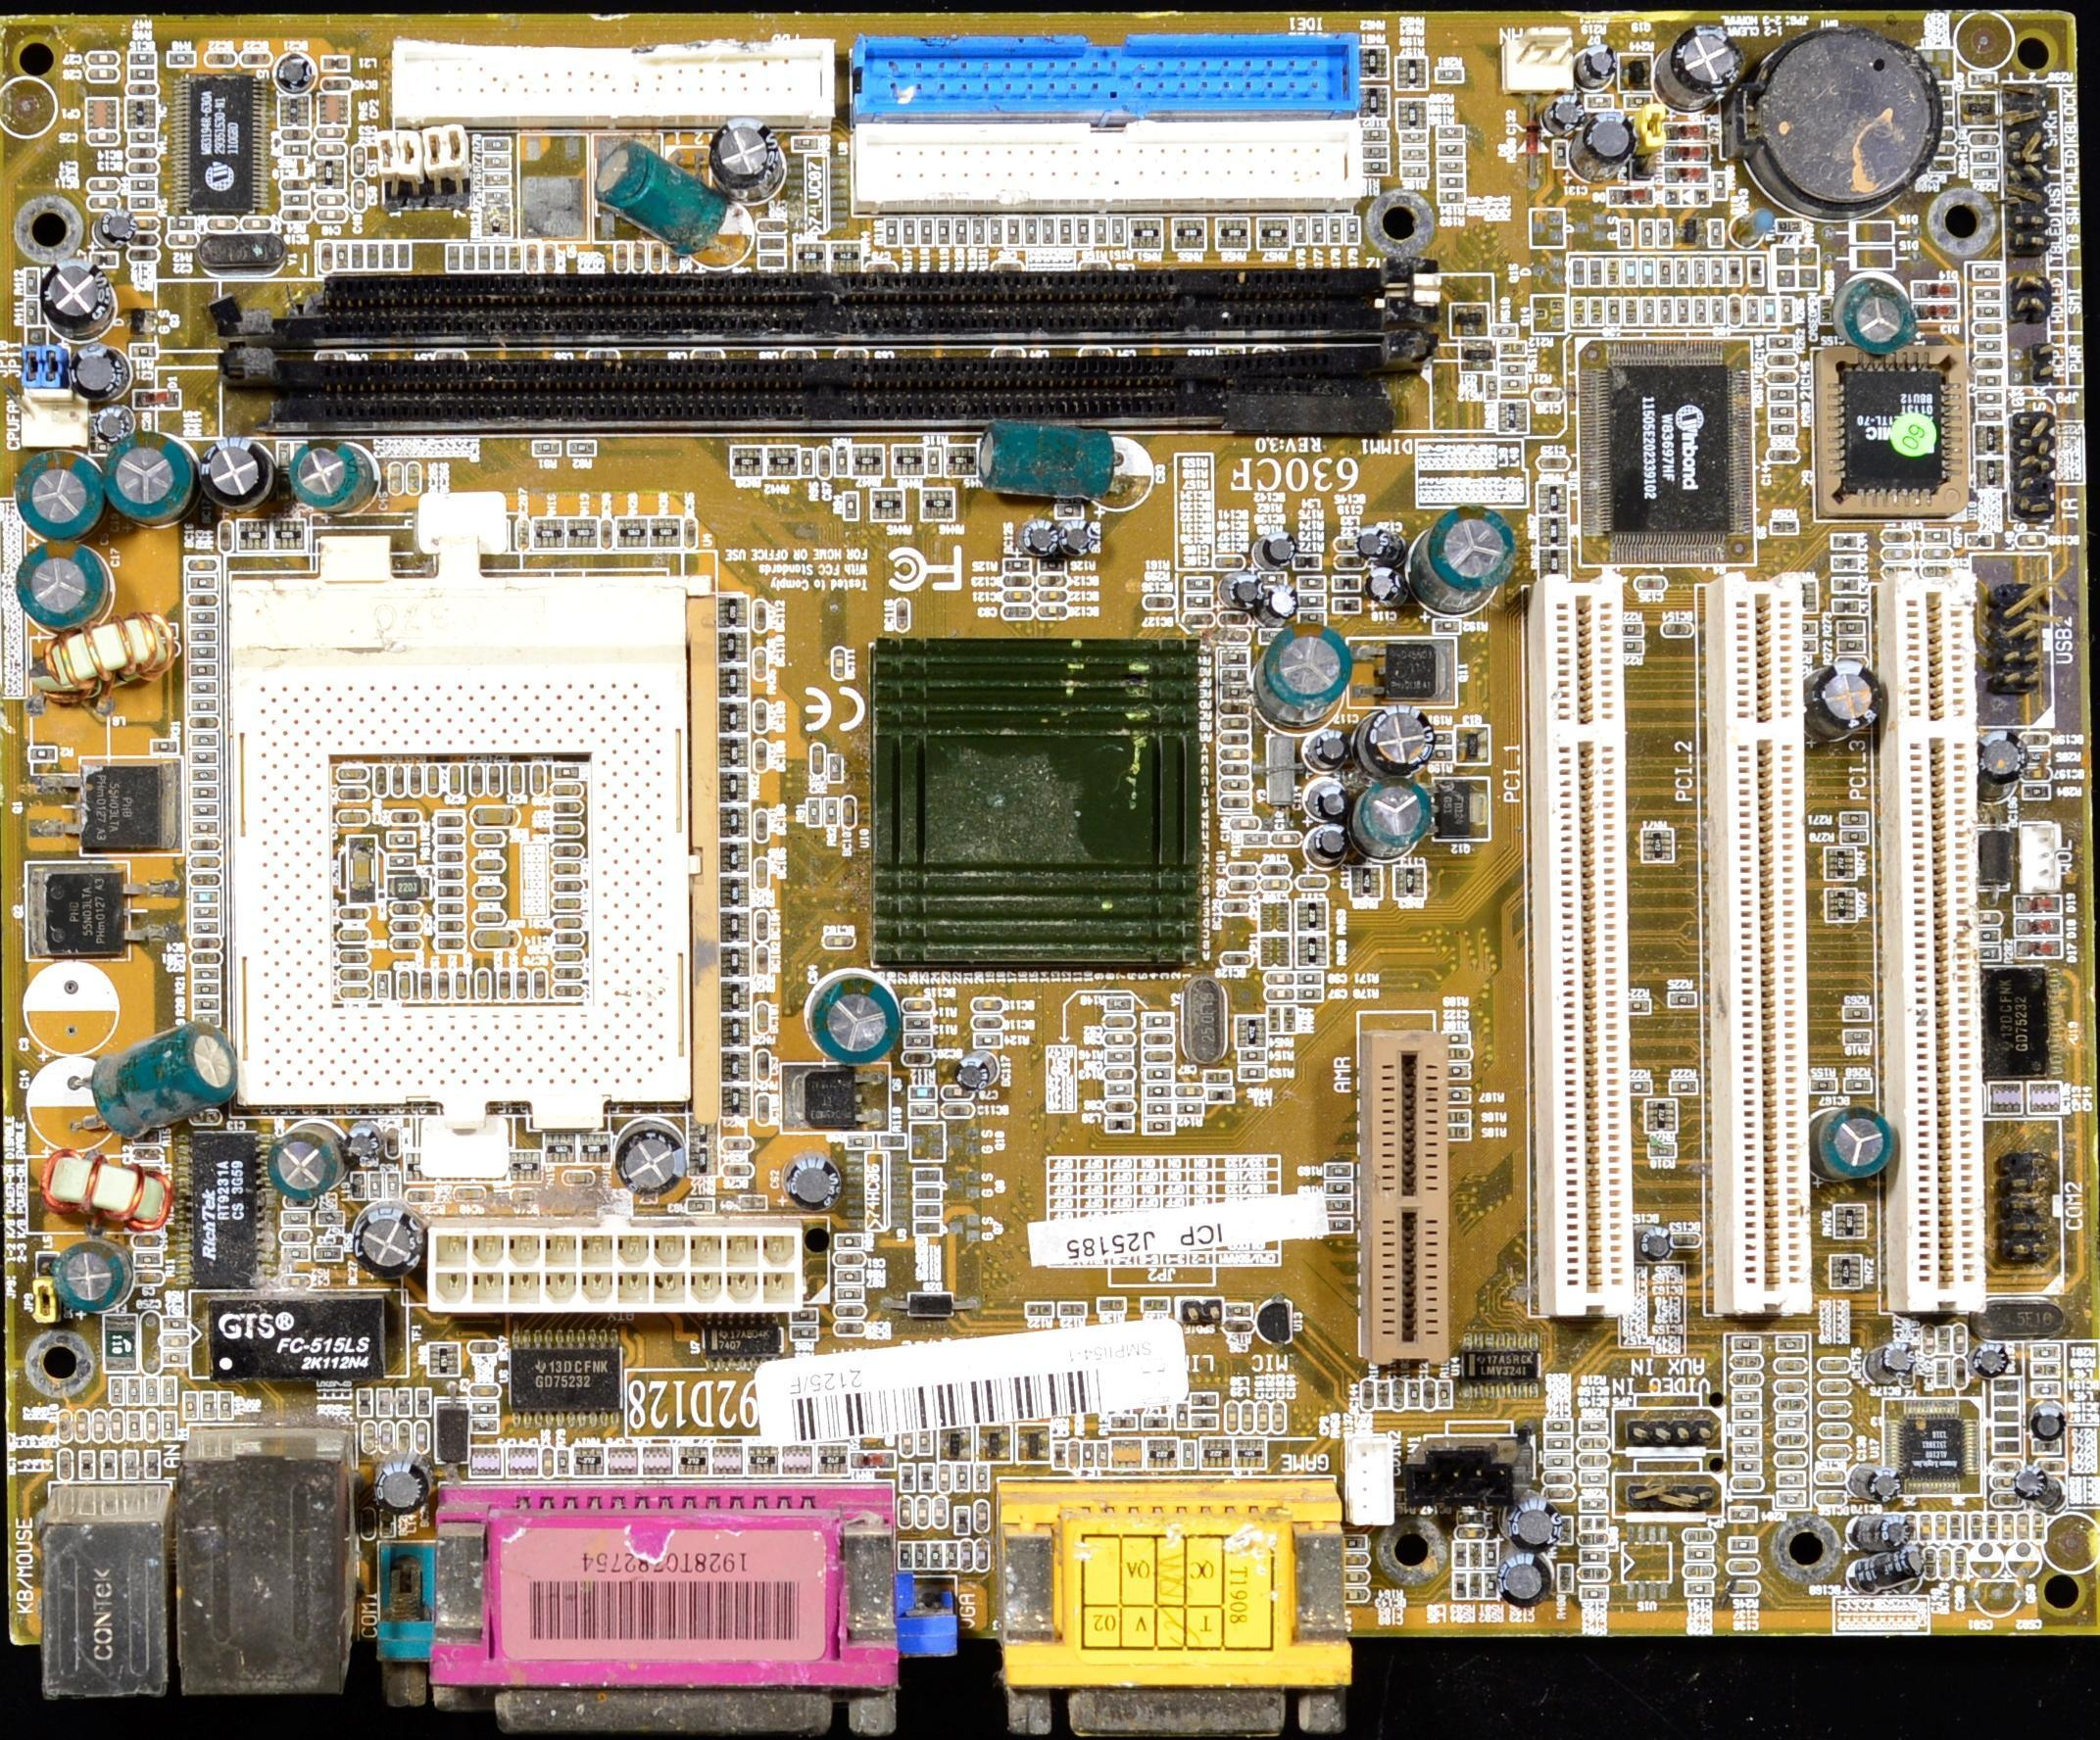Capacitor: (57, 1413, 72, 1435), (282, 1277, 312, 1286), (1538, 455, 1563, 467), (145, 1409, 156, 1437), (817, 450, 829, 478), (195, 954, 223, 964), (75, 1414, 87, 1437), (948, 1089, 978, 1099), (471, 1385, 498, 1397), (835, 1256, 864, 1265), (91, 66, 115, 77), (545, 1446, 553, 1473), (1954, 1549, 1963, 1575), (1725, 1585, 1753, 1593), (395, 812, 421, 821), (1533, 389, 1556, 399), (1109, 1099, 1130, 1108), (1146, 1035, 1170, 1042), (94, 1413, 103, 1437), (249, 220, 273, 228), (938, 1466, 949, 1486), (1988, 1519, 1998, 1538), (1775, 451, 1793, 460), (918, 1501, 927, 1523), (963, 1545, 972, 1567), (1002, 607, 1026, 616), (1227, 720, 1248, 729), (1263, 880, 1286, 889), (1971, 134, 1991, 143), (1427, 1381, 1434, 1407), (1271, 1405, 1280, 1426), (1258, 1404, 1264, 1430), (1821, 1446, 1842, 1455), (902, 1497, 909, 1524), (355, 151, 363, 172), (815, 749, 822, 774), (374, 768, 383, 791), (191, 874, 213, 883), (761, 1053, 769, 1078), (89, 54, 113, 62), (342, 814, 366, 822), (287, 1232, 308, 1240), (138, 1237, 158, 1247), (136, 1271, 156, 1281), (1687, 1533, 1705, 1541), (354, 184, 364, 204), (1342, 560, 1360, 568), (195, 720, 215, 729), (1107, 1019, 1130, 1025), (1242, 1406, 1248, 1427), (113, 1416, 120, 1438), (938, 1501, 945, 1524), (189, 598, 212, 604), (903, 1432, 912, 1451), (174, 232, 192, 241), (1643, 579, 1660, 588), (1980, 912, 1997, 921), (1109, 1070, 1130, 1078), (978, 1503, 986, 1524), (89, 199, 117, 205), (1395, 1381, 1401, 1407), (1346, 1591, 1362, 1600), (2031, 1516, 2038, 1534), (1971, 1517, 1978, 1536), (1461, 1525, 1481, 1533), (1579, 1571, 1597, 1577), (1888, 551, 1909, 558), (131, 86, 150, 93), (559, 954, 578, 960), (1182, 1086, 1197, 1095), (93, 132, 111, 140), (1549, 1489, 1566, 1495), (1952, 1516, 1958, 1533), (1690, 1567, 1708, 1574), (1347, 1574, 1365, 1581), (215, 218, 231, 225), (1929, 552, 1946, 557), (1264, 865, 1279, 873), (1222, 1323, 1245, 1329), (1273, 977, 1290, 984), (167, 1339, 182, 1345), (96, 182, 117, 189), (1888, 531, 1905, 539), (1240, 820, 1255, 827), (1231, 885, 1246, 891), (1229, 1407, 1235, 1426), (1548, 1474, 1568, 1478), (1585, 1536, 1602, 1541), (319, 213, 339, 217), (193, 842, 213, 847), (1280, 836, 1294, 843), (1306, 878, 1321, 884), (554, 935, 581, 938), (1736, 1563, 1747, 1571), (1227, 751, 1244, 757), (1232, 868, 1248, 874), (1929, 1552, 1933, 1576), (1151, 1052, 1167, 1058), (1891, 566, 1907, 572), (976, 1548, 982, 1563), (1941, 145, 1950, 151), (320, 197, 339, 201), (1111, 1037, 1126, 1041), (1927, 570, 1942, 574), (1274, 991, 1285, 995), (325, 128, 339, 132), (1452, 1052, 1464, 1056)
Connector: (1538, 584, 1621, 1297), (1741, 584, 1804, 1301), (1918, 590, 1957, 1280), (1379, 1039, 1435, 1338)
IC: (885, 650, 1182, 950), (1592, 354, 1738, 554), (195, 1136, 249, 1281), (1985, 968, 2050, 1073), (198, 84, 251, 204), (510, 1353, 601, 1408), (1902, 1418, 1960, 1477), (699, 1321, 778, 1351), (1471, 1350, 1529, 1376), (1259, 1301, 1286, 1340)
Resistor: (1637, 218, 1651, 241), (534, 441, 557, 456), (1624, 94, 1647, 107), (1780, 1337, 1802, 1349), (164, 1414, 176, 1436), (24, 272, 38, 291), (1148, 1017, 1169, 1029), (1783, 1492, 1803, 1504), (1712, 174, 1725, 196), (1839, 620, 1861, 633), (830, 752, 841, 777), (809, 800, 819, 824), (1240, 834, 1265, 845), (282, 1212, 306, 1222), (285, 1250, 308, 1261), (1659, 262, 1670, 284), (153, 741, 176, 751), (190, 753, 214, 764), (1102, 1299, 1122, 1311), (737, 1198, 762, 1206), (26, 750, 52, 758), (387, 1176, 397, 1196), (317, 1212, 338, 1222), (1738, 1409, 1760, 1420), (958, 1468, 968, 1489), (979, 1470, 990, 1490), (1324, 1164, 1347, 1173), (136, 1254, 160, 1263), (918, 1432, 929, 1451), (1110, 221, 1121, 240), (958, 222, 967, 242), (1622, 223, 1633, 243), (1765, 298, 1776, 317), (1439, 125, 1461, 134), (1940, 1359, 1948, 1380), (184, 1394, 194, 1418), (796, 137, 818, 147), (1715, 219, 1723, 243), (1780, 301, 1788, 324), (1404, 166, 1420, 177), (193, 771, 210, 783), (1588, 95, 1607, 106), (126, 1381, 136, 1398), (1176, 1406, 1187, 1424), (1085, 1443, 1094, 1464), (282, 144, 309, 151), (1559, 1568, 1568, 1589), (1443, 163, 1465, 170), (1046, 222, 1054, 241), (764, 239, 782, 250), (1715, 304, 1725, 321), (1007, 559, 1026, 570), (132, 53, 150, 63), (189, 610, 209, 618), (192, 682, 213, 691), (193, 736, 211, 746), (195, 823, 216, 831), (1843, 1006, 1868, 1013), (1548, 1458, 1573, 1464), (1503, 379, 1528, 385), (1977, 413, 2001, 420), (190, 578, 215, 586), (1993, 1379, 2013, 1387), (1738, 1426, 1758, 1434), (559, 1451, 566, 1470), (941, 223, 949, 242), (977, 222, 985, 243), (991, 222, 1000, 242), (903, 222, 912, 242), (1662, 301, 1671, 321), (826, 800, 835, 820), (1111, 999, 1126, 1009), (946, 1546, 955, 1563), (1296, 223, 1306, 238), (1621, 262, 1632, 277), (1696, 305, 1707, 321), (370, 1175, 376, 1198), (1382, 1380, 1388, 1403), (131, 1413, 137, 1434), (565, 443, 587, 451), (930, 450, 937, 473), (847, 494, 854, 515), (190, 632, 213, 638), (376, 976, 385, 993), (1812, 1082, 1831, 1090), (841, 1234, 858, 1242), (146, 1382, 156, 1400), (1405, 147, 1424, 155), (1366, 147, 1384, 155), (1681, 263, 1689, 281), (1644, 301, 1654, 319), (1489, 377, 1497, 395), (1773, 409, 1790, 417), (194, 790, 212, 798), (390, 834, 408, 843), (393, 856, 411, 865), (1670, 992, 1689, 998), (1846, 1081, 1867, 1088), (837, 1290, 858, 1297), (1059, 1304, 1079, 1312), (203, 1394, 209, 1416), (1186, 1443, 1193, 1464), (899, 1546, 909, 1561), (1974, 155, 1995, 163), (133, 199, 154, 206), (1661, 219, 1667, 240), (1029, 221, 1036, 243), (1588, 262, 1595, 282), (1768, 426, 1790, 433), (796, 1310, 810, 1318), (127, 134, 154, 140), (1975, 169, 1990, 178), (366, 247, 374, 264), (1041, 561, 1057, 570), (197, 805, 214, 814), (198, 892, 213, 900), (195, 907, 211, 916), (198, 971, 213, 980), (1207, 1072, 1226, 1079), (475, 1405, 494, 1413), (472, 1421, 492, 1427), (1737, 1447, 1756, 1455), (1346, 1537, 1366, 1545), (1473, 1576, 1479, 1595), (284, 195, 303, 202), (1315, 220, 1322, 238), (1010, 221, 1016, 241), (339, 248, 346, 267), (450, 248, 457, 267), (1643, 262, 1649, 280), (1576, 264, 1583, 283), (1749, 301, 1756, 321), (1501, 345, 1521, 352), (1261, 574, 1281, 581), (1185, 597, 1204, 603), (1840, 643, 1860, 650), (2034, 1349, 2059, 1354), (1966, 538, 1989, 544), (198, 1015, 212, 1024), (976, 1037, 995, 1044), (1109, 1086, 1127, 1092), (1454, 1127, 1468, 1135), (849, 1138, 866, 1146), (690, 1200, 705, 1209), (1736, 1341, 1755, 1348), (1406, 133, 1423, 139), (1441, 1385, 1448, 1404), (1738, 1394, 1756, 1401), (1110, 1419, 1129, 1426), (1546, 1420, 1565, 1426), (1999, 1427, 2016, 1434), (1781, 1474, 1798, 1482), (1734, 1538, 1751, 1545), (1693, 1585, 1708, 1593), (1081, 225, 1088, 243), (353, 246, 360, 263), (1677, 302, 1684, 318), (136, 346, 153, 352), (172, 56, 190, 63), (1227, 653, 1244, 661), (190, 702, 207, 709), (222, 1396, 228, 1419), (174, 221, 198, 226), (1448, 1033, 1464, 1039), (1847, 1038, 1868, 1042), (1448, 1089, 1463, 1096), (837, 1274, 857, 1281), (1232, 1307, 1247, 1315), (797, 1329, 812, 1335), (1937, 1328, 1943, 1348), (1365, 130, 1382, 138), (114, 1382, 120, 1398), (1782, 1420, 1797, 1426), (489, 141, 504, 149), (1584, 1474, 1600, 1481), (1487, 1547, 1493, 1563), (1587, 1552, 1602, 1559), (931, 1548, 939, 1564), (130, 181, 151, 187), (1446, 192, 1462, 198), (1347, 219, 1355, 236), (923, 222, 930, 238), (1063, 224, 1071, 241), (495, 251, 502, 267), (1698, 265, 1705, 281), (28, 305, 34, 321), (1771, 337, 1785, 344), (1774, 393, 1790, 400), (1978, 396, 1998, 401), (1191, 578, 1206, 586), (910, 1036, 923, 1044), (1413, 1386, 1418, 1405), (1585, 1501, 1602, 1506), (1474, 1545, 1480, 1564), (1333, 220, 1339, 238), (762, 258, 782, 264), (1610, 302, 1615, 320), (198, 987, 212, 993), (199, 1000, 213, 1007), (911, 1020, 926, 1028), (1032, 1306, 1047, 1313), (168, 1355, 181, 1361), (1578, 1425, 1606, 1428), (1691, 1549, 1706, 1556), (1505, 366, 1519, 373), (1302, 599, 1316, 605), (1624, 623, 1637, 630), (562, 767, 575, 775), (1673, 1080, 1689, 1085), (914, 1088, 932, 1093), (1180, 1107, 1197, 1112), (915, 1108, 933, 1115), (1453, 1111, 1463, 1120), (1328, 1184, 1344, 1189), (318, 1248, 336, 1253), (2037, 1367, 2054, 1373), (1999, 1414, 2016, 1419), (919, 1545, 924, 1562), (888, 222, 894, 240), (386, 248, 391, 266), (466, 250, 471, 266), (1975, 270, 1991, 275), (1978, 291, 1996, 297), (1302, 580, 1321, 586), (1224, 687, 1242, 693), (1636, 999, 1648, 1006), (169, 1318, 181, 1326), (1444, 149, 1456, 155), (1444, 176, 1456, 183), (1713, 264, 1720, 276), (1300, 613, 1313, 620), (1984, 931, 1997, 939), (1243, 1068, 1257, 1075), (1149, 1124, 1165, 1131), (1328, 1202, 1343, 1206), (1147, 1300, 1162, 1306), (166, 1381, 171, 1397), (1999, 1396, 2015, 1402), (1741, 1463, 1756, 1469), (1488, 1575, 1493, 1592), (1585, 1590, 1600, 1595), (481, 249, 487, 265), (510, 250, 514, 265), (1494, 325, 1510, 332), (193, 650, 209, 655), (1226, 669, 1243, 675), (1637, 1082, 1646, 1089), (1111, 1053, 1125, 1059), (1550, 1438, 1565, 1444), (1099, 226, 1104, 241), (1929, 533, 1942, 539), (192, 667, 214, 671), (1441, 72, 1462, 75), (133, 72, 147, 76), (1438, 734, 1448, 742), (195, 925, 210, 929), (1304, 975, 1318, 980), (1245, 1053, 1257, 1059), (490, 192, 502, 197), (1432, 751, 1444, 757), (1846, 835, 1858, 841), (1148, 1087, 1165, 1091), (1978, 344, 1995, 348), (1627, 640, 1636, 648), (1150, 1070, 1162, 1076), (400, 247, 403, 263), (1979, 310, 1996, 314), (1844, 815, 1860, 819), (1980, 948, 1990, 954), (1303, 991, 1316, 996), (2003, 1445, 2017, 1449), (1100, 1445, 1103, 1460), (490, 160, 504, 165), (1932, 164, 1947, 167), (1372, 165, 1380, 170), (490, 175, 505, 180), (1152, 1105, 1161, 1111), (1334, 1223, 1343, 1228), (1981, 378, 1990, 383), (1453, 1068, 1466, 1073), (1651, 1148, 1664, 1153), (2030, 752, 2043, 756)
Transistor: (86, 767, 171, 845), (42, 873, 115, 950), (788, 1070, 866, 1126), (1366, 646, 1443, 694), (1440, 787, 1481, 831), (1966, 99, 1991, 121), (1018, 1427, 1042, 1452), (1455, 311, 1482, 332), (1460, 729, 1479, 756), (981, 1428, 999, 1454), (1467, 346, 1489, 367), (1627, 59, 1648, 82), (1683, 220, 1698, 239), (948, 1434, 961, 1456)
